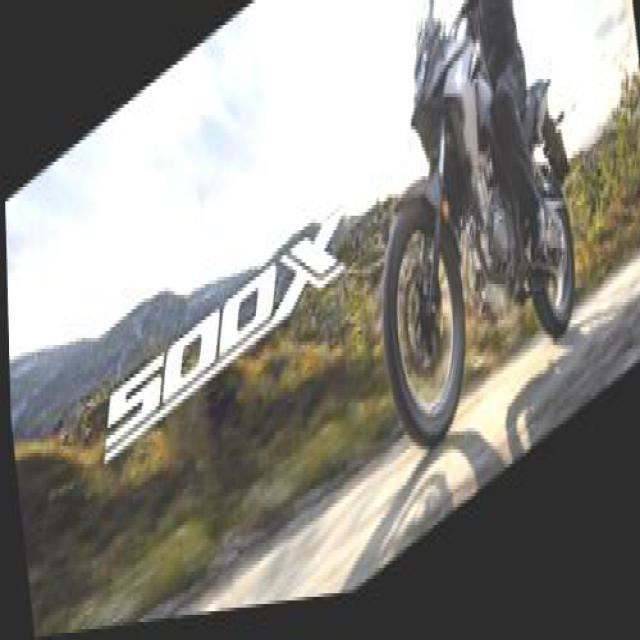CB500X: (350, 0, 588, 496)
